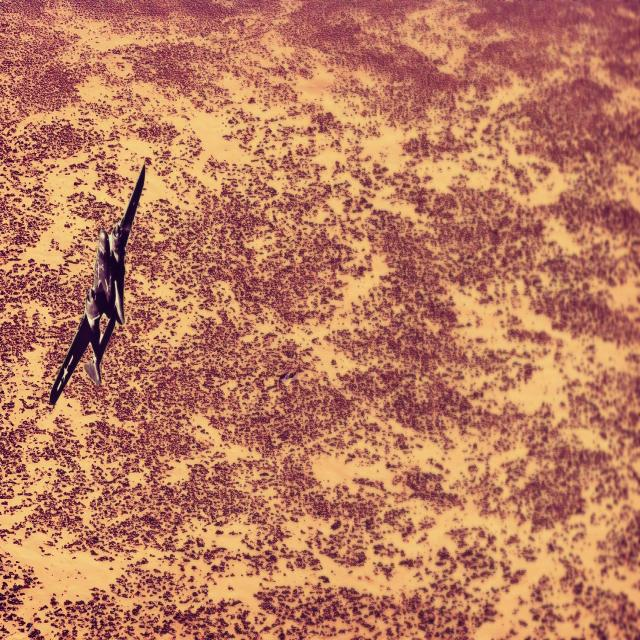airplane: (49, 162, 146, 406)
